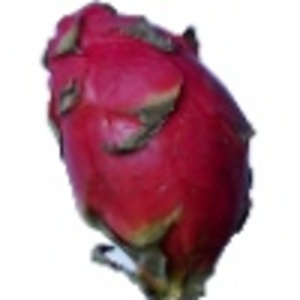pitaia: (41, 1, 256, 300)
